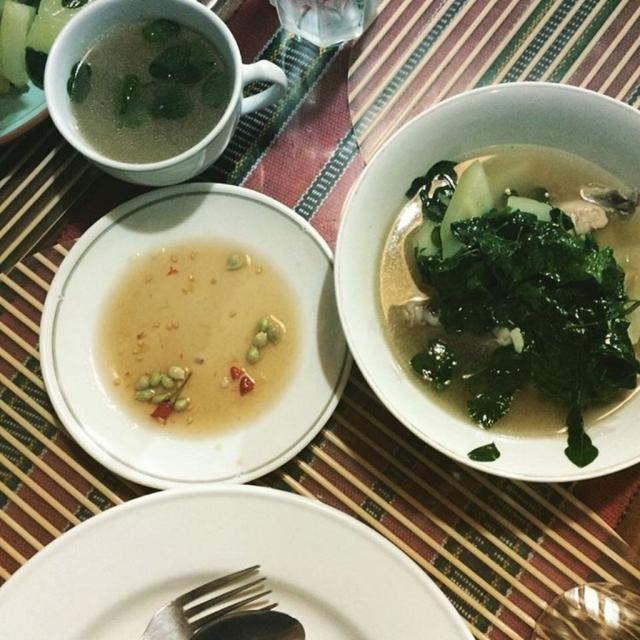non-organic waste: (36, 166, 352, 495)
